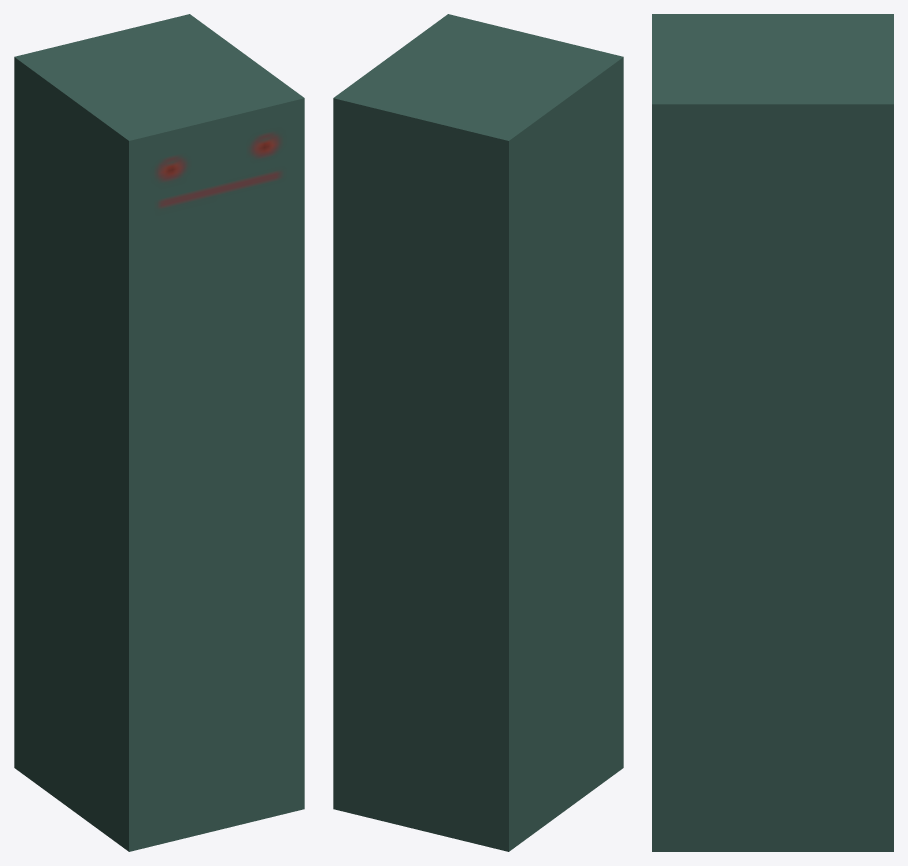
File: zombie.obj
3 renders of one model, left to right at view 1: azimuth 30°, elevation 25°; view 2: azimuth 150°, elevation 25°; view 3: azimuth 270°, elevation 25°, orthographic. The views are drawn at different scales.
Visible parts, largest first — view 1: Cube; view 2: Cube; view 3: Cube.
Boxes of the visible parts, bbox=[...] form: Cube: bbox=[14, 14, 304, 851]; Cube: bbox=[333, 14, 623, 851]; Cube: bbox=[652, 14, 893, 851].
Size of the model in its own units: 1.26 by 4.89 by 1.43.
